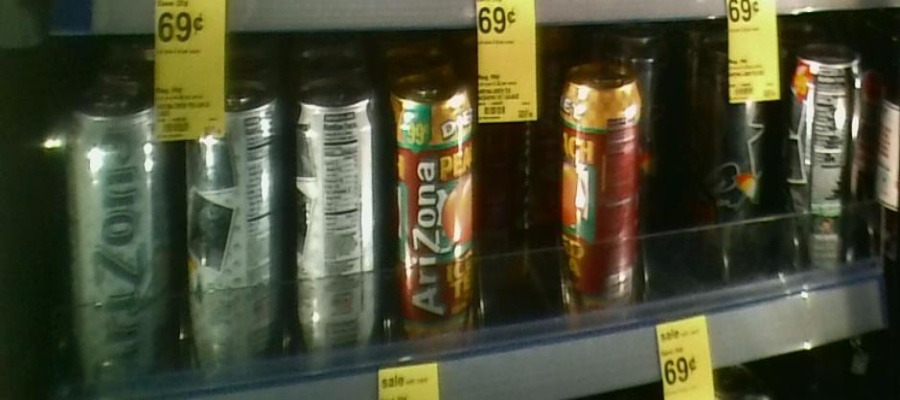bottle: (178, 61, 281, 375), (63, 80, 164, 386), (288, 71, 381, 360), (389, 67, 479, 341), (561, 61, 646, 323), (794, 39, 865, 270)
